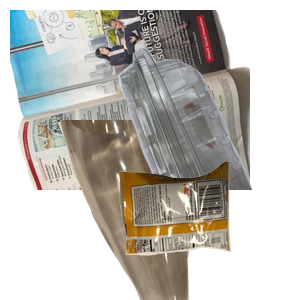glass: (56, 120, 241, 300)
paper: (10, 10, 250, 190)
plastic: (71, 45, 300, 225)
trash: (117, 159, 300, 300)
